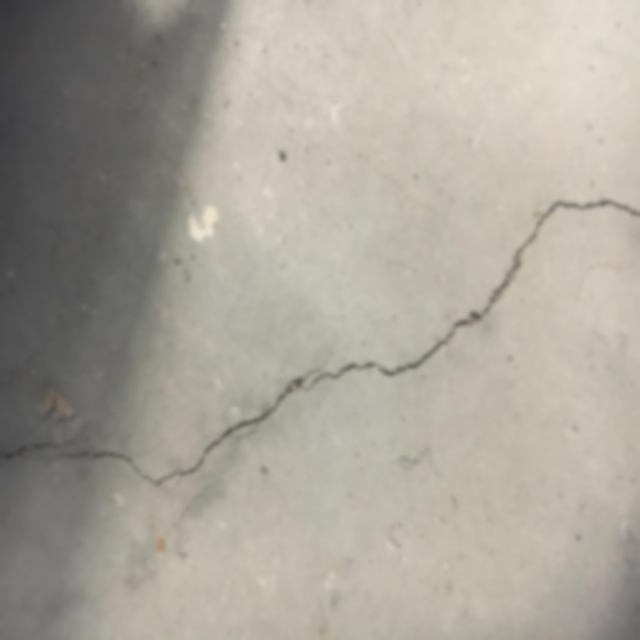SurfaceCrack: (1, 172, 640, 510)
